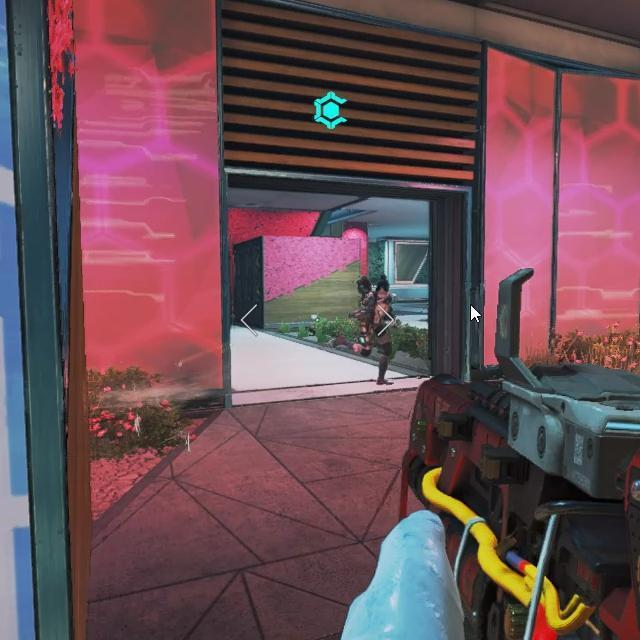avatar: (355, 273, 398, 388)
